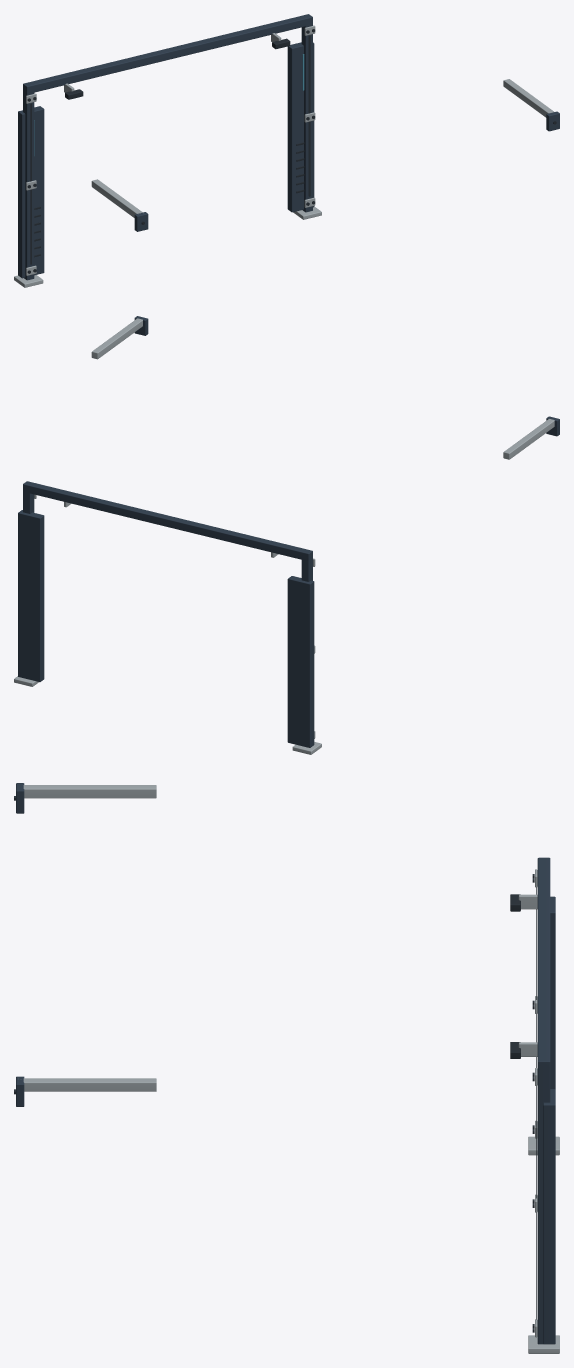
File: tech.glb
3 views of the same model, one above another, from view 1: azimuth 30°, elevation 25°; view 2: azimuth 150°, elevation 25°; view 3: azimuth 270°, elevation 25° (orthographic). The views are drawn at different scales.
Visible parts, largest first — view 1: Roofless modular frame tech; view 2: Roofless modular frame tech; view 3: Roofless modular frame tech.
Boxes of the visible parts, x1=… form: Roofless modular frame tech: x1=14, y1=14, x2=559, y2=287; Roofless modular frame tech: x1=14, y1=316, x2=559, y2=754; Roofless modular frame tech: x1=14, y1=783, x2=559, y2=1353.
Bounding box in the file's own units: 6.74 × 3.28 × 5.16.
